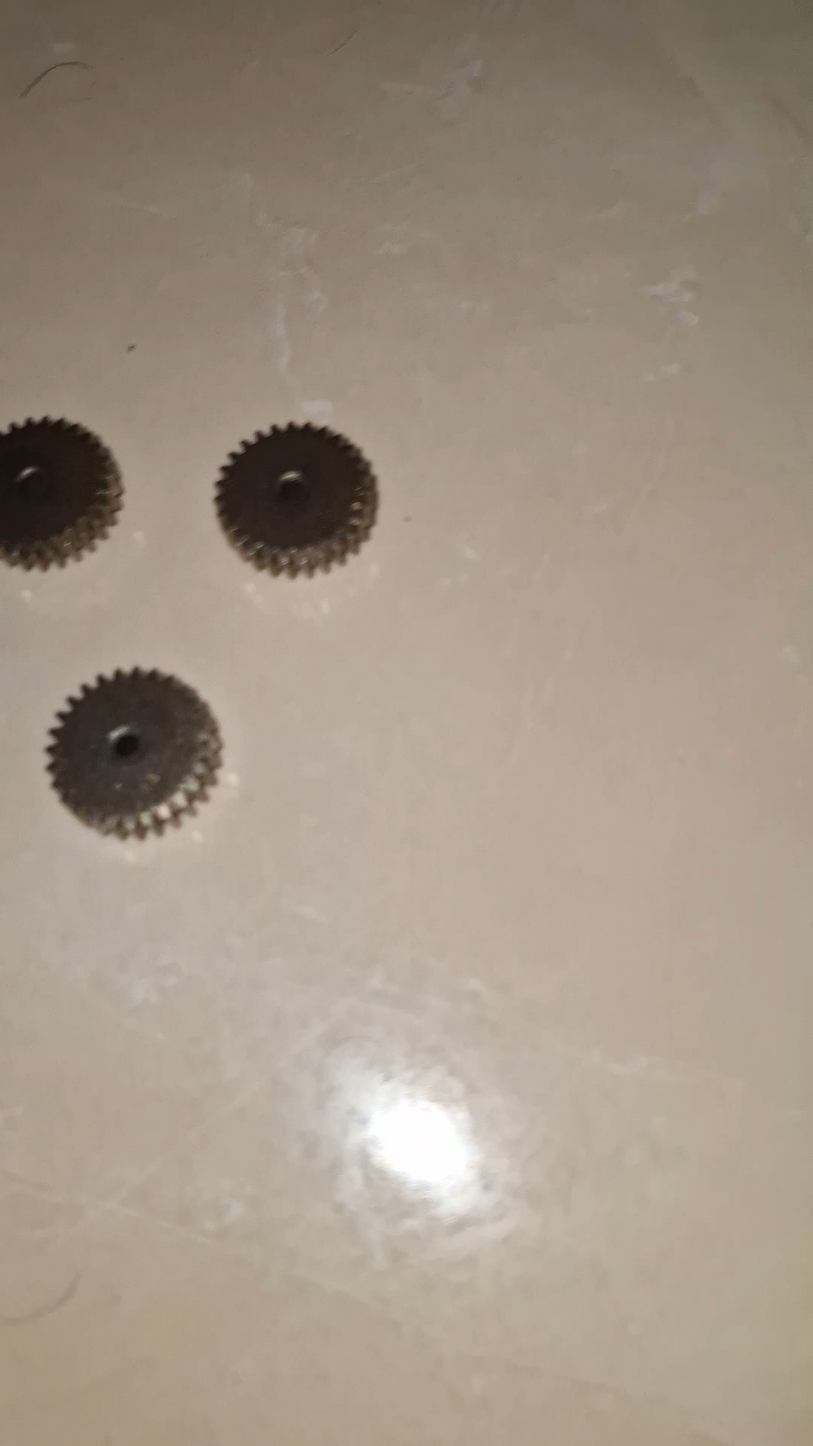spur gear: (47, 669, 222, 838), (216, 423, 378, 577), (0, 418, 122, 569)
